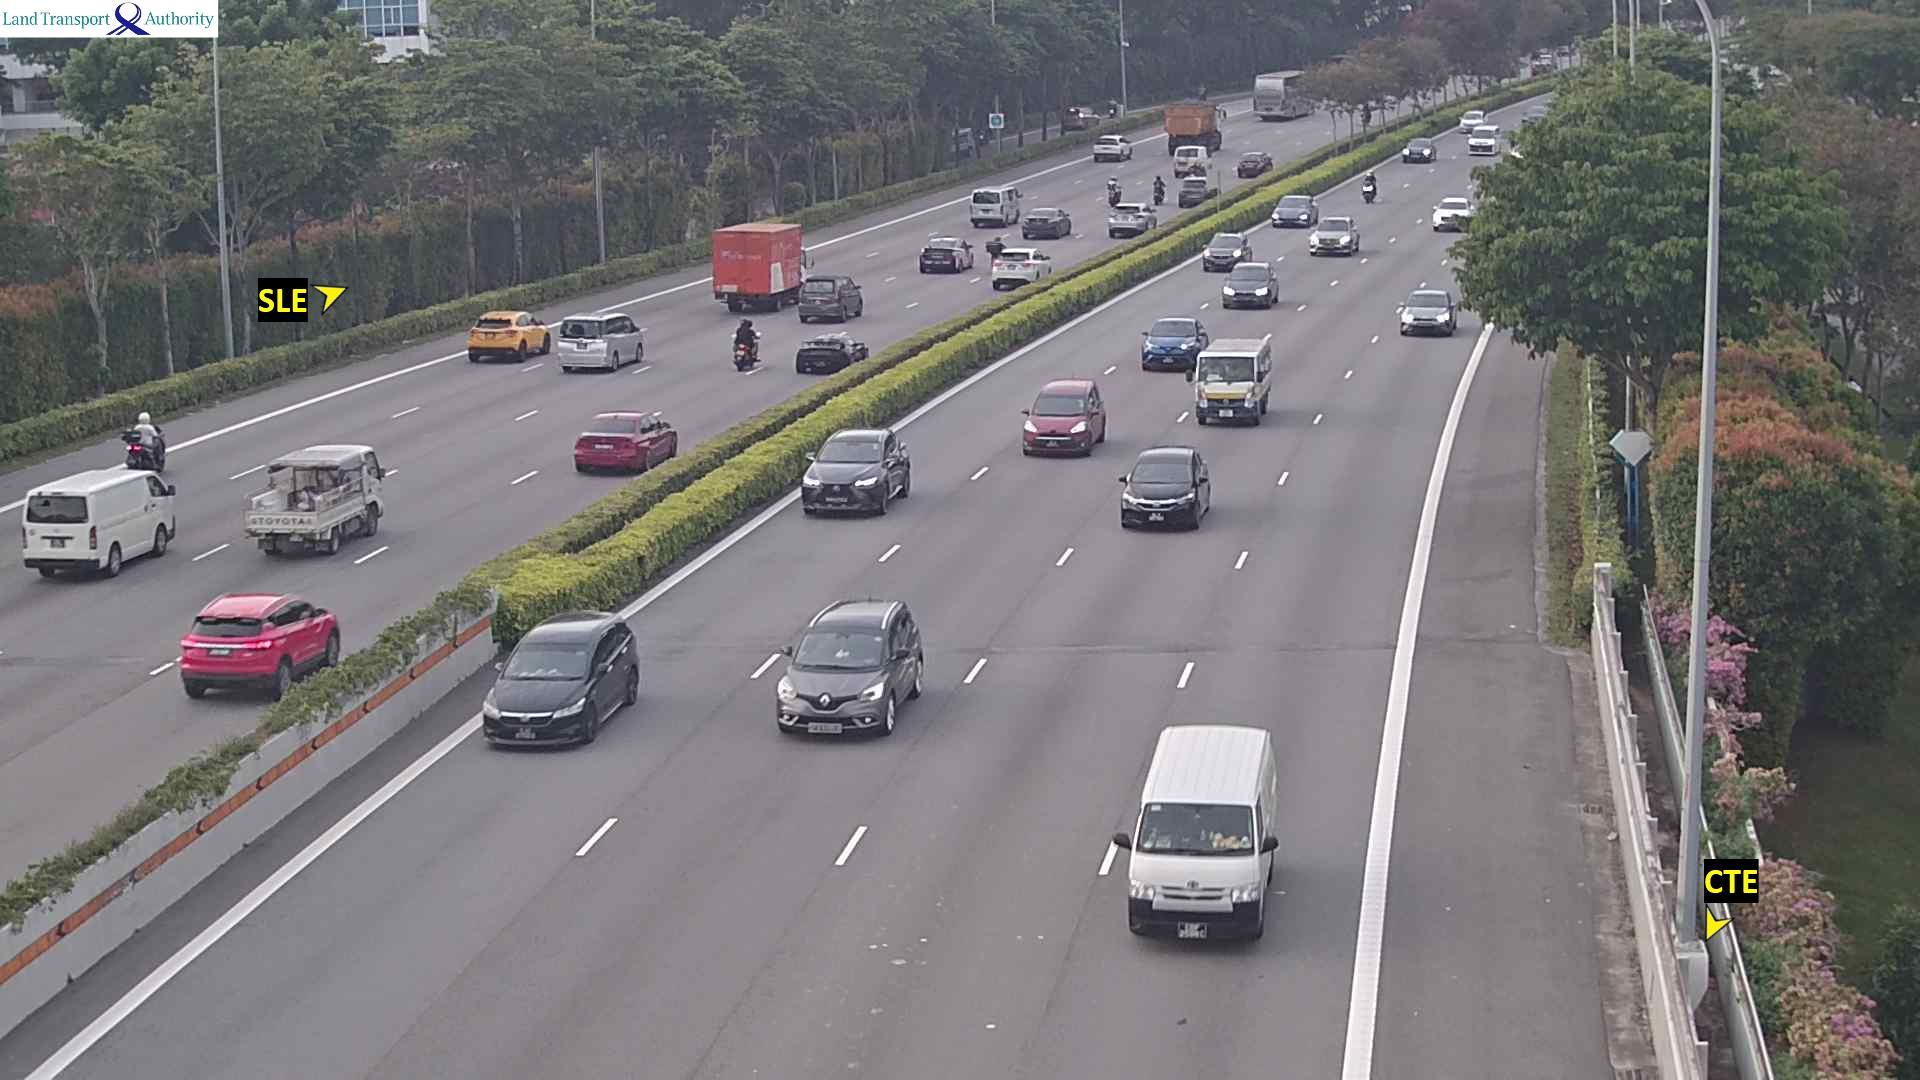incoming: (1114, 804, 1280, 938), (488, 638, 605, 754), (785, 626, 906, 735), (802, 438, 898, 513), (1120, 463, 1207, 531), (1023, 393, 1098, 455), (1189, 360, 1263, 422), (1399, 294, 1458, 336), (1143, 323, 1192, 372), (1224, 269, 1275, 310), (1312, 220, 1352, 256), (1204, 233, 1245, 268), (1271, 198, 1316, 225), (1433, 200, 1472, 232), (1466, 127, 1497, 154), (1402, 140, 1433, 162), (1458, 111, 1489, 131), (1361, 183, 1377, 203)
